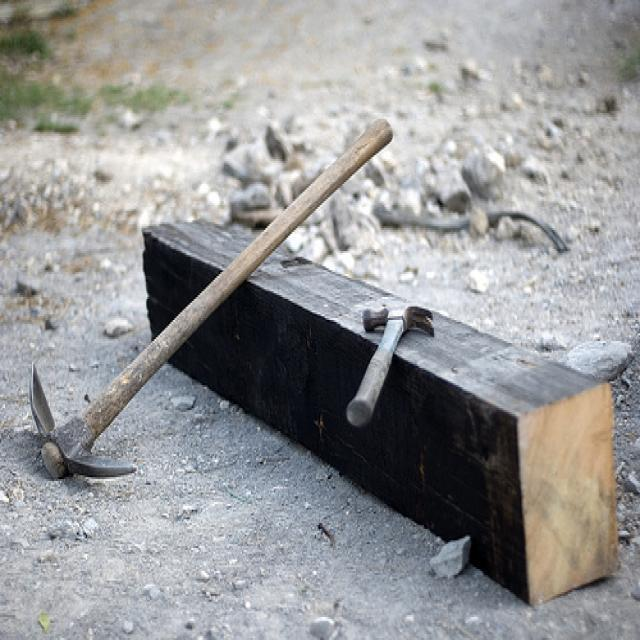hammer: (342, 295, 436, 435)
